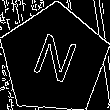N_S: (27, 29, 81, 91)
